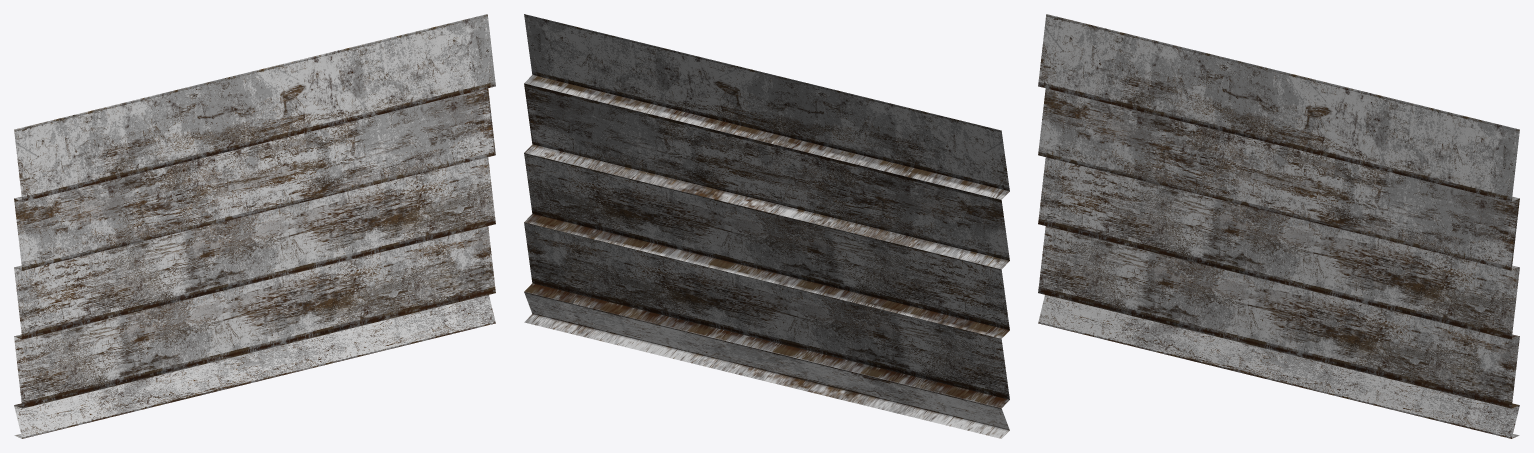
File: SM_Wall_2m_Wagonka_Short.fbx
3 renders of one model, left to right at view 1: azimuth 30°, elevation 25°; view 2: azimuth 150°, elevation 25°; view 3: azimuth 330°, elevation 25°, orthographic.
Parts seen in each view (by area): view 1: SM_Wall_2m_Wagonka_Short; view 2: SM_Wall_2m_Wagonka_Short; view 3: SM_Wall_2m_Wagonka_Short.
Boxes of the visible parts, x1,y1,x2,y2 form: SM_Wall_2m_Wagonka_Short: (14,14,495,438); SM_Wall_2m_Wagonka_Short: (524,14,1009,438); SM_Wall_2m_Wagonka_Short: (1038,14,1519,438).
Bounding box in the file's own units: 2 × 1.23 × 0.0601.
